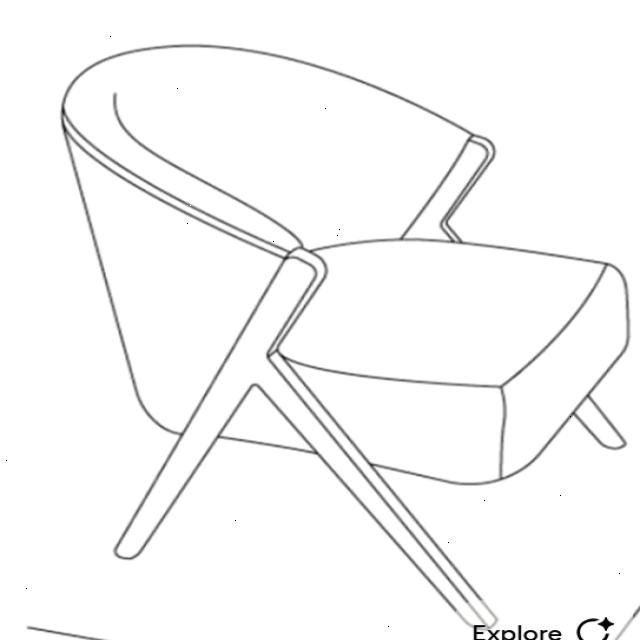Backrest: (60, 45, 475, 438)
Leg_Structure: (111, 246, 503, 633)
Seat: (272, 237, 631, 487)
